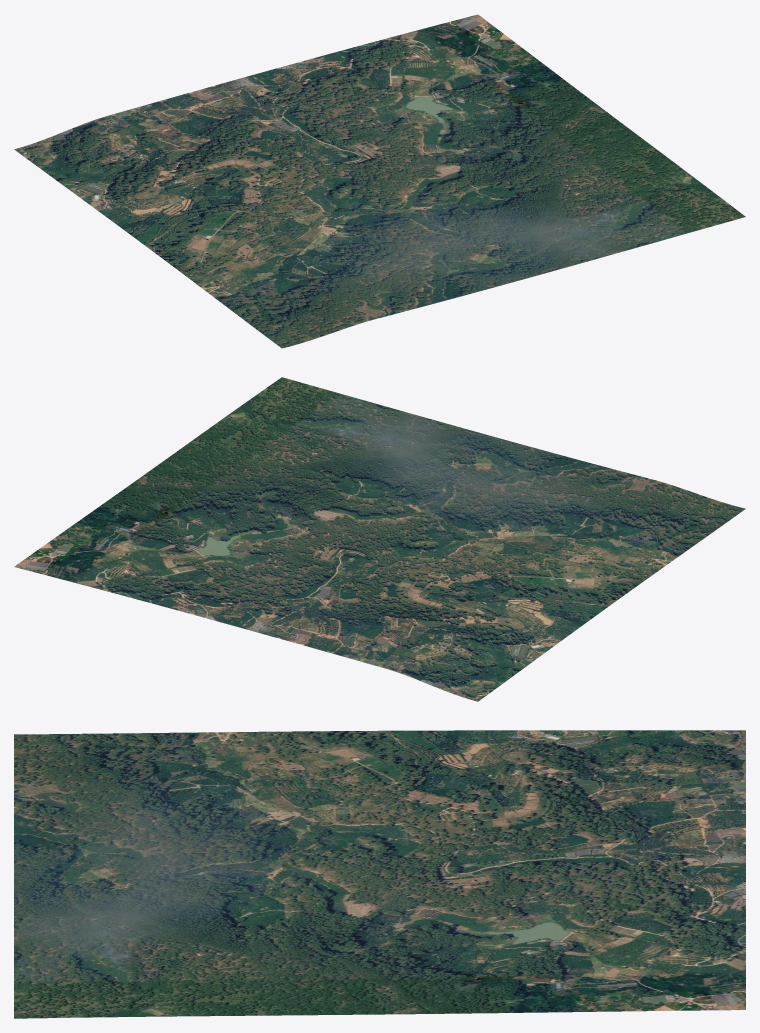
File: terrain_real_T_E04_S04.glb
3 renders of one model, top to bottom at view 1: azimuth 30°, elevation 25°; view 2: azimuth 150°, elevation 25°; view 3: azimuth 270°, elevation 25°, orthographic. The views are drawn at different scales.
Parts seen in each view (by area): view 1: Terrain_Real_DEM_T_E04_S04; view 2: Terrain_Real_DEM_T_E04_S04; view 3: Terrain_Real_DEM_T_E04_S04.
Part boxes in pixels (x1,y1,x2,y2): Terrain_Real_DEM_T_E04_S04: [14, 14, 745, 348]; Terrain_Real_DEM_T_E04_S04: [14, 377, 745, 701]; Terrain_Real_DEM_T_E04_S04: [14, 730, 745, 1018].
Size of the model in its own units: 2000 by 102 by 2000.
1 material, 1 textured.
